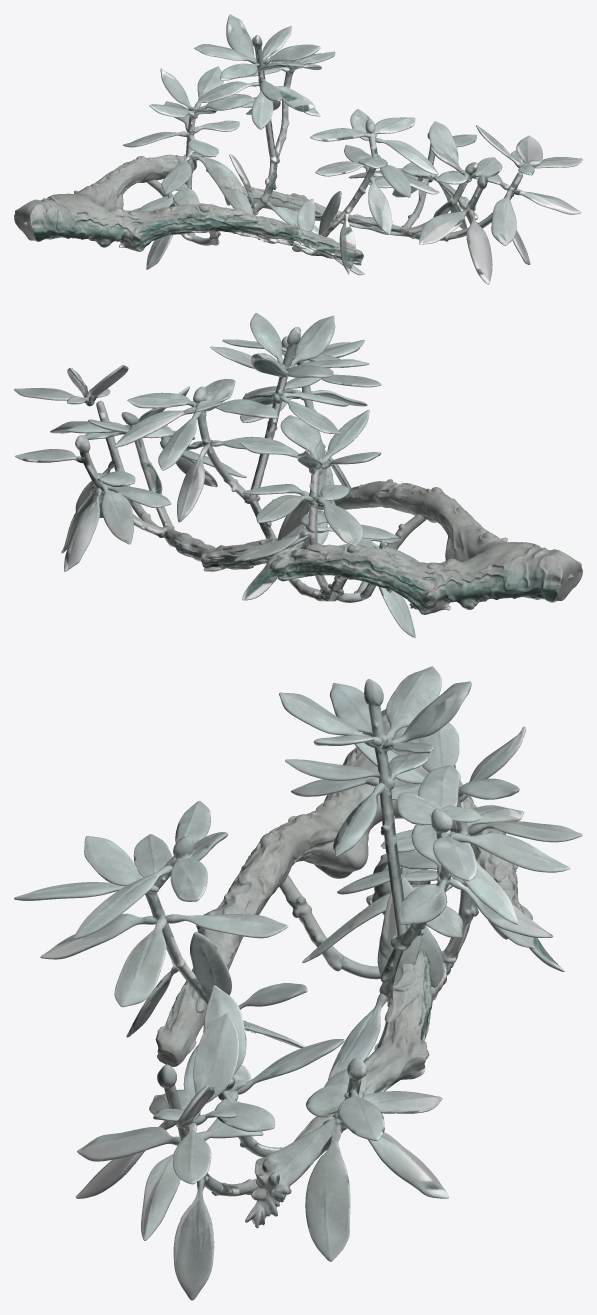
The model's file is branch.glb.
The picture shows the model from 3 angles, top to bottom: view 1: azimuth 30°, elevation 25°; view 2: azimuth 150°, elevation 25°; view 3: azimuth 270°, elevation 25°; orthographic projection. The views are drawn at different scales.
Parts seen in each view (by area): view 1: geometry_0; view 2: geometry_0; view 3: geometry_0.
Boxes of the visible parts, x1,y1,x2,y2 form: geometry_0: (14, 14, 582, 284); geometry_0: (14, 313, 582, 637); geometry_0: (14, 666, 582, 1300).
Bounding box in the file's own units: 0.5 × 0.2348 × 0.2805.
1 material, 1 textured.
